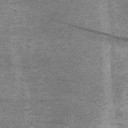finishing roll printing: (70, 24, 128, 42)
